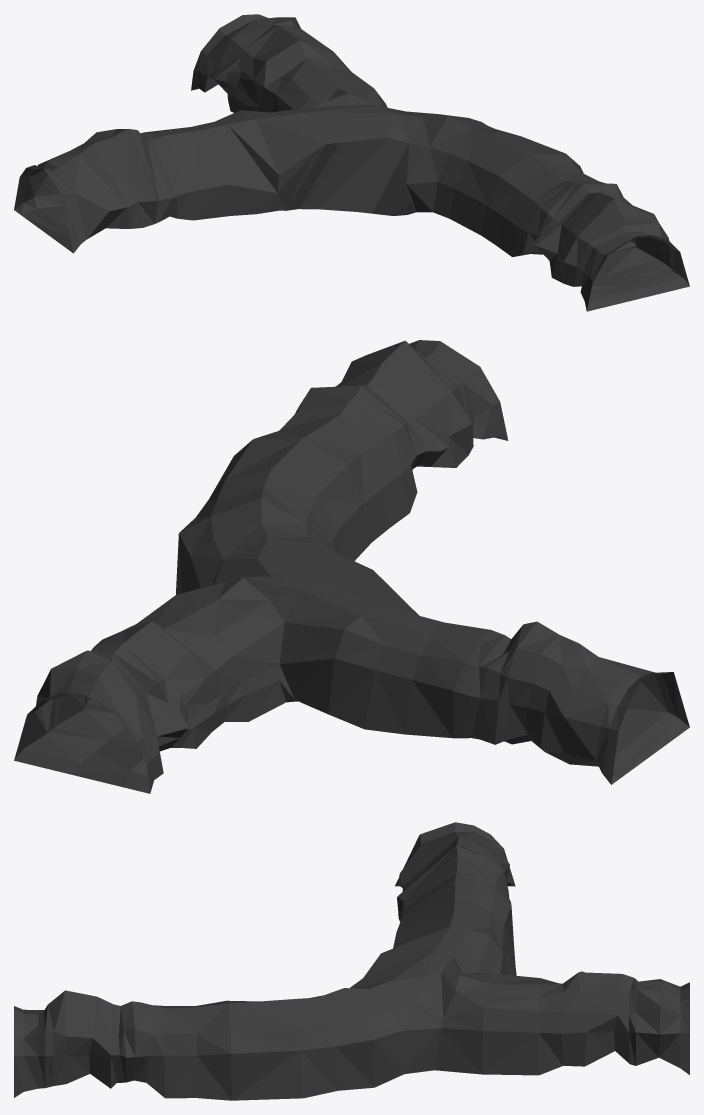
The model's file is Cave_13_LOD_2.fbx.
3 renders of one model, top to bottom at view 1: azimuth 30°, elevation 25°; view 2: azimuth 150°, elevation 25°; view 3: azimuth 270°, elevation 25°, orthographic. The views are drawn at different scales.
Visible parts, largest first — view 1: polySurface39; view 2: polySurface39; view 3: polySurface39.
Boxes of the visible parts, x1,y1,x2,y2 form: polySurface39: [14, 14, 689, 311]; polySurface39: [14, 340, 689, 793]; polySurface39: [14, 822, 689, 1100].
Bounding box in the file's own units: 34.35 × 6.98 × 46.21.
